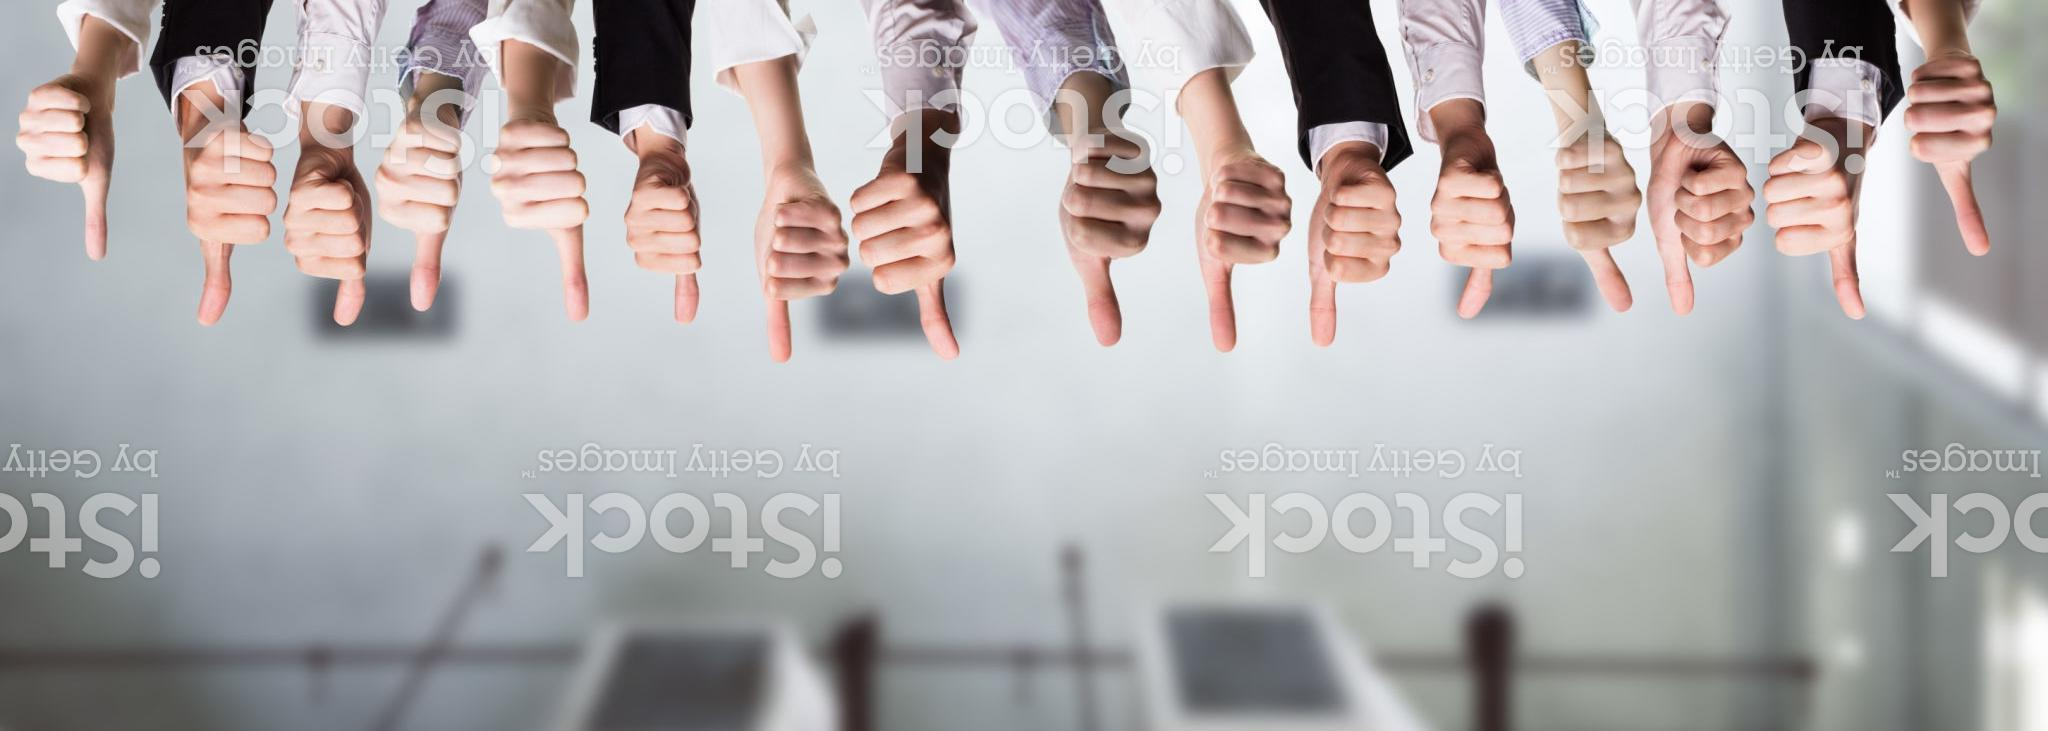thumbsdown: (1055, 128, 1162, 349), (846, 161, 963, 362), (490, 117, 596, 325), (1192, 151, 1297, 356), (750, 166, 856, 365), (1646, 137, 1759, 319), (1902, 52, 2001, 257), (13, 74, 119, 262), (183, 125, 280, 329), (1761, 148, 1869, 322), (1305, 162, 1404, 349), (374, 119, 468, 315), (1552, 136, 1644, 315), (282, 151, 376, 328), (1428, 136, 1516, 320), (622, 168, 705, 328)
